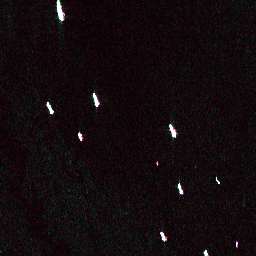ship: (54, 1, 66, 22), (43, 99, 56, 117), (90, 90, 102, 109), (167, 121, 179, 140), (157, 229, 169, 243), (75, 130, 86, 143), (175, 182, 185, 196), (201, 247, 211, 256)
